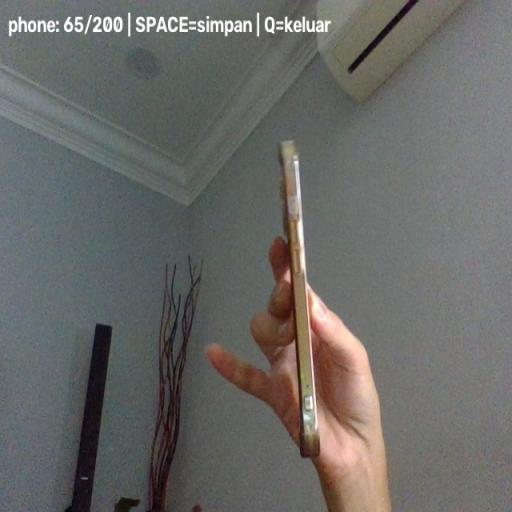Phone: (275, 140, 321, 458)
